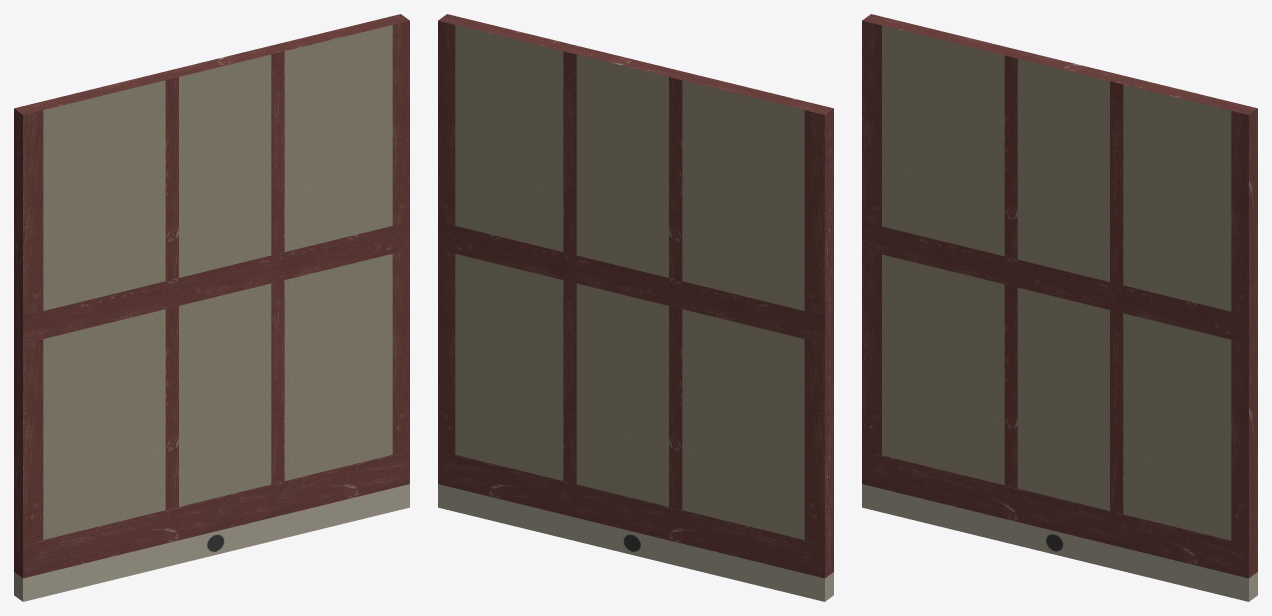
File: SM_Sun_Pal_Wall_C.fbx
3 views of the same model, side by side, from view 1: azimuth 30°, elevation 25°; view 2: azimuth 150°, elevation 25°; view 3: azimuth 330°, elevation 25° (orthographic).
Parts seen in each view (by area): view 1: SM_Sun_Pal_Wall_C; view 2: SM_Sun_Pal_Wall_C; view 3: SM_Sun_Pal_Wall_C.
Boxes of the visible parts, x1=… form: SM_Sun_Pal_Wall_C: x1=14, y1=14, x2=409, y2=601; SM_Sun_Pal_Wall_C: x1=438, y1=14, x2=833, y2=601; SM_Sun_Pal_Wall_C: x1=862, y1=14, x2=1257, y2=601.
Size of the model in its own units: 245 by 295 by 10.
